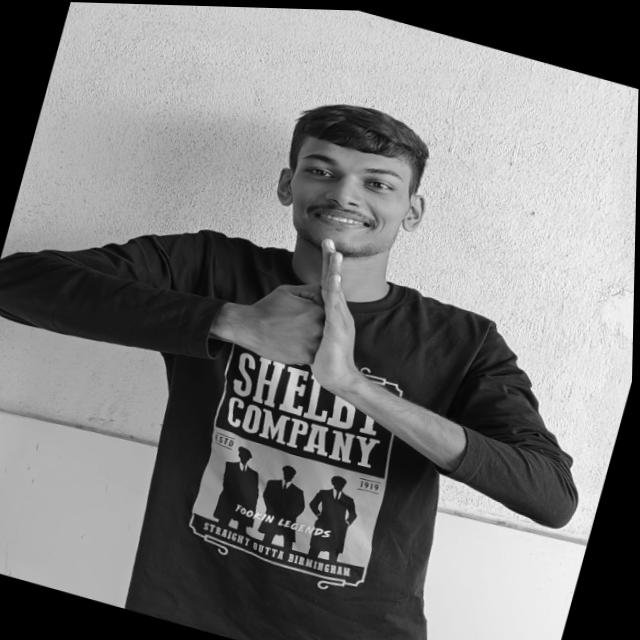Well Done: (243, 222, 386, 396)
